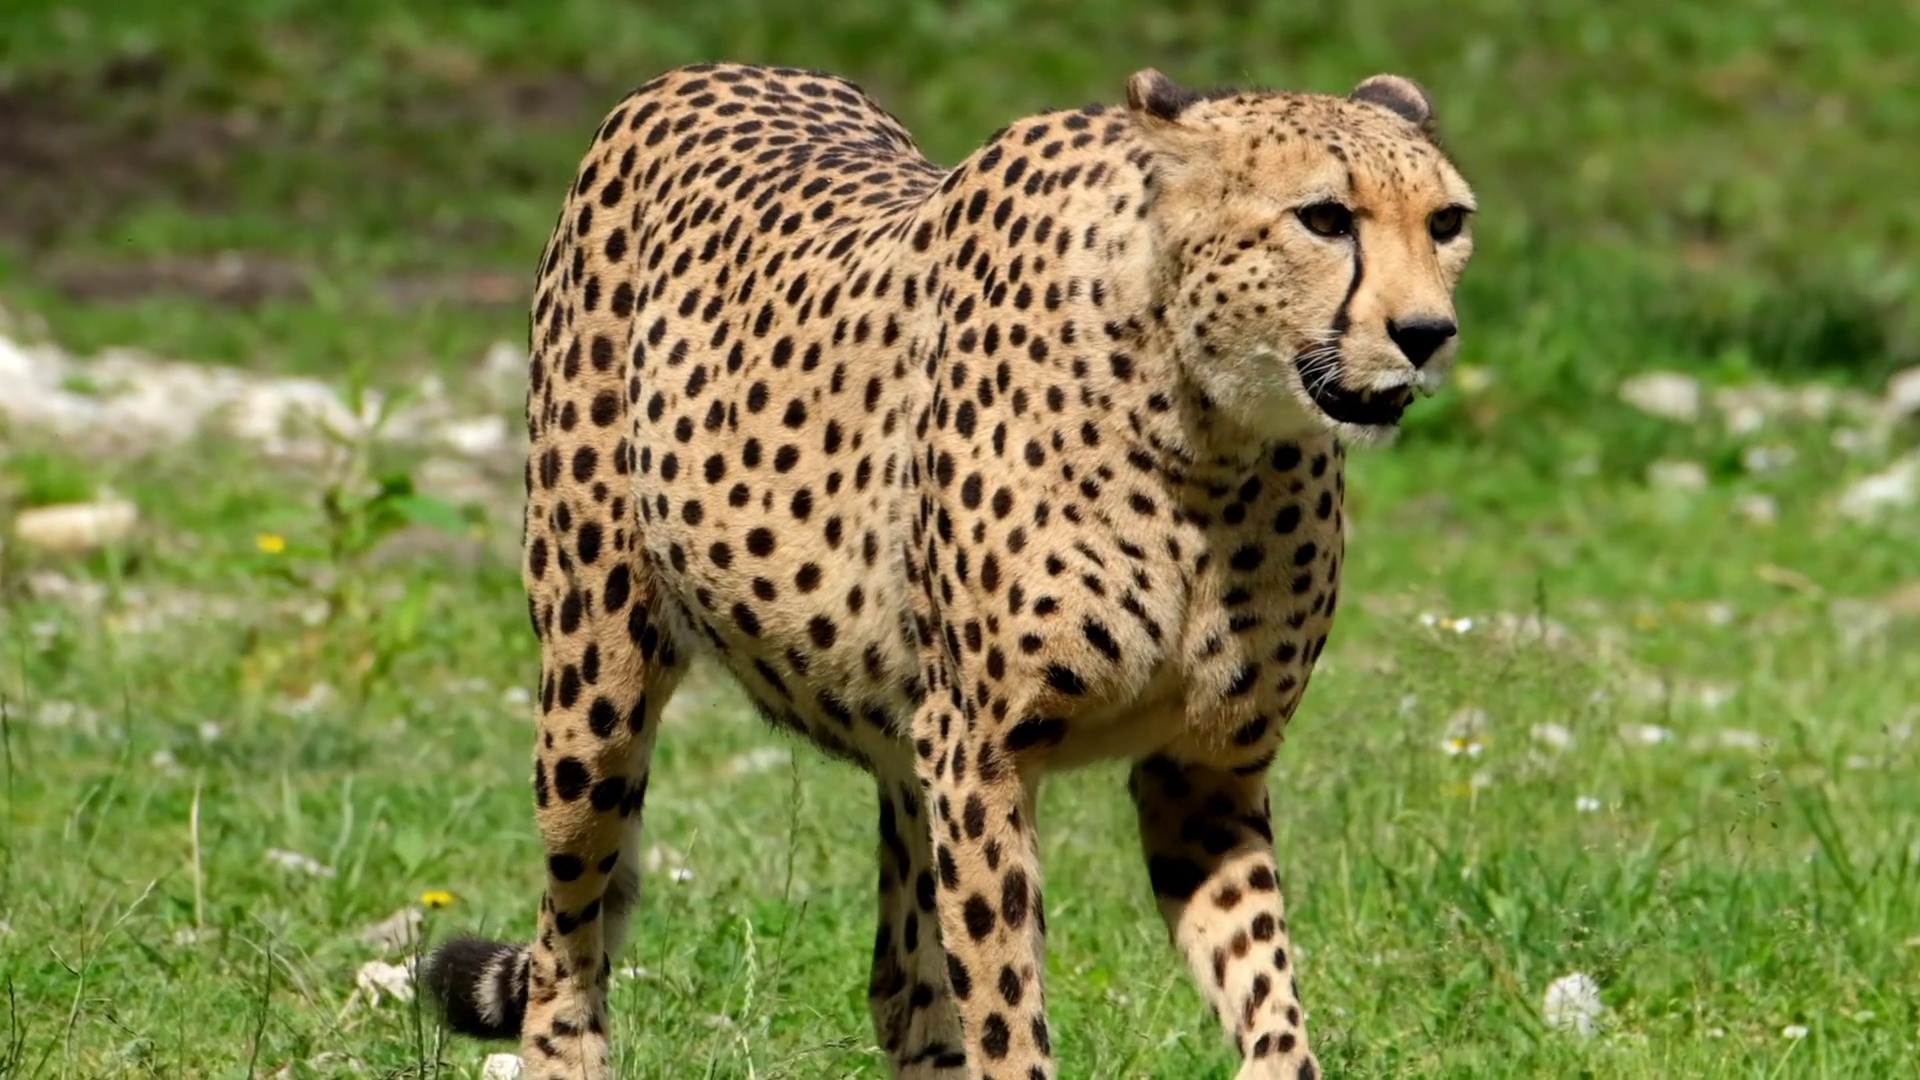Cheetah: (422, 50, 1482, 1080)
